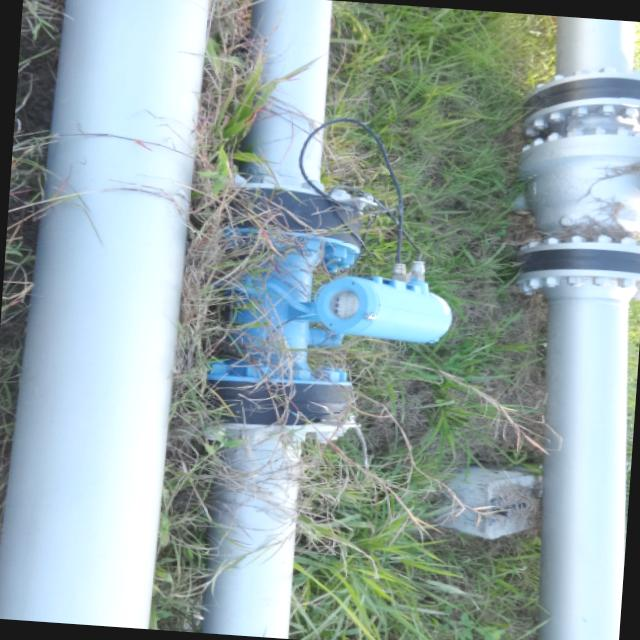gas: (0, 0, 221, 630), (187, 0, 353, 640), (500, 14, 640, 640)
